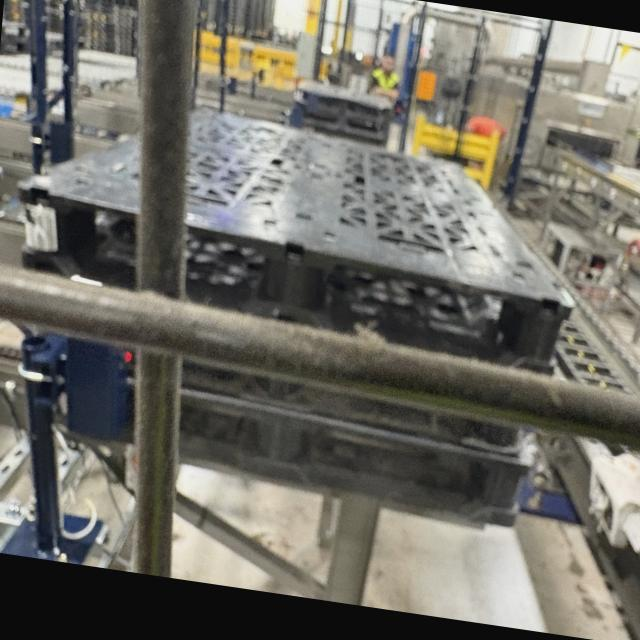igps: (12, 98, 580, 383)
